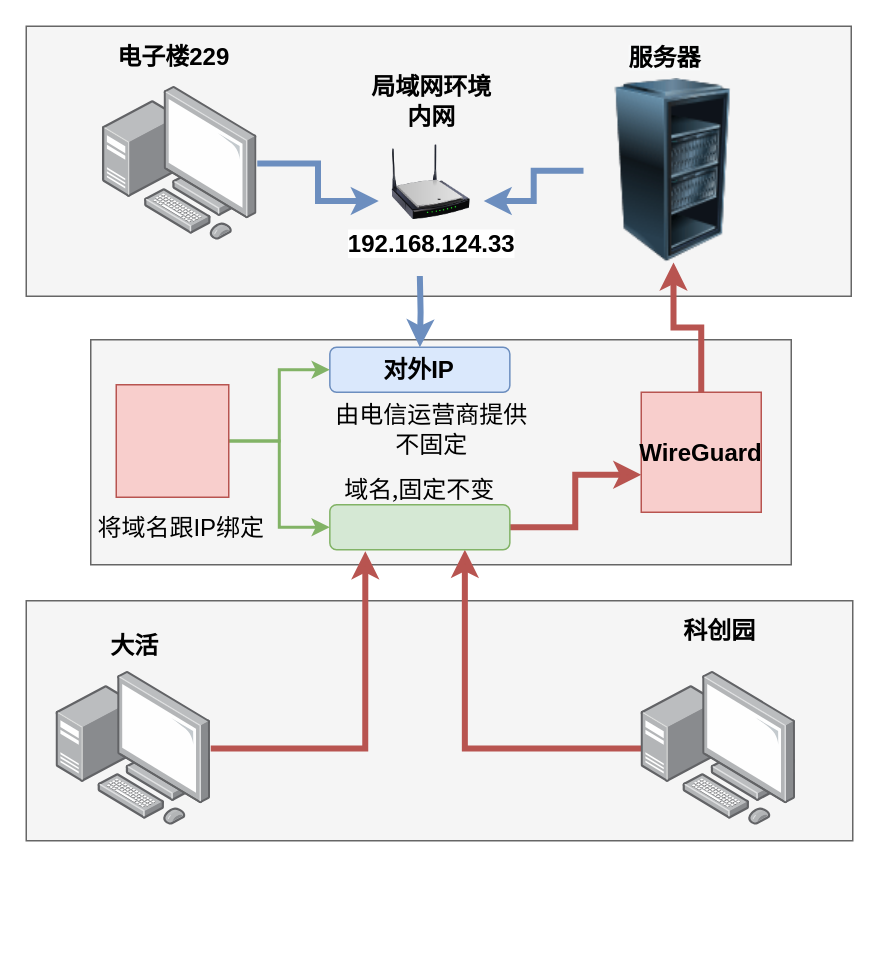
Some shapes in this 879 by 957 pixel diagram are drawn without their labels. Each missing label, with the centre of its shape:
"aliyun-ddns.sh" belongs at point 172,440.
"www.icaislab.top" belongs at point 419,526.
